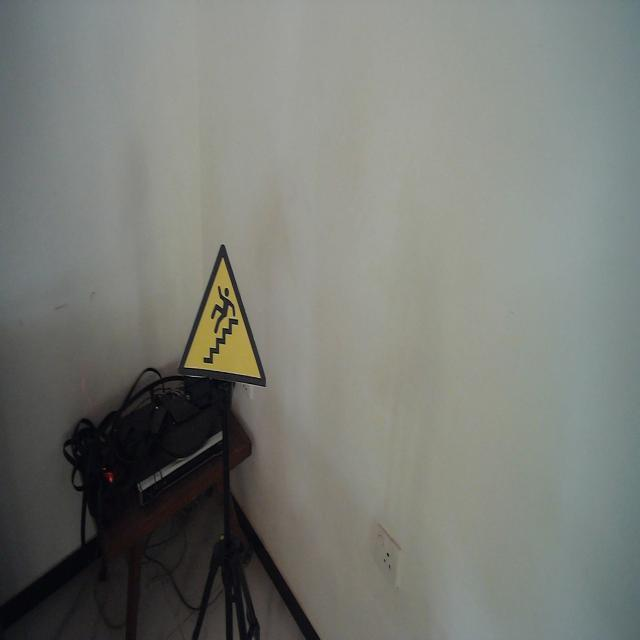stairs: (176, 242, 268, 391)
